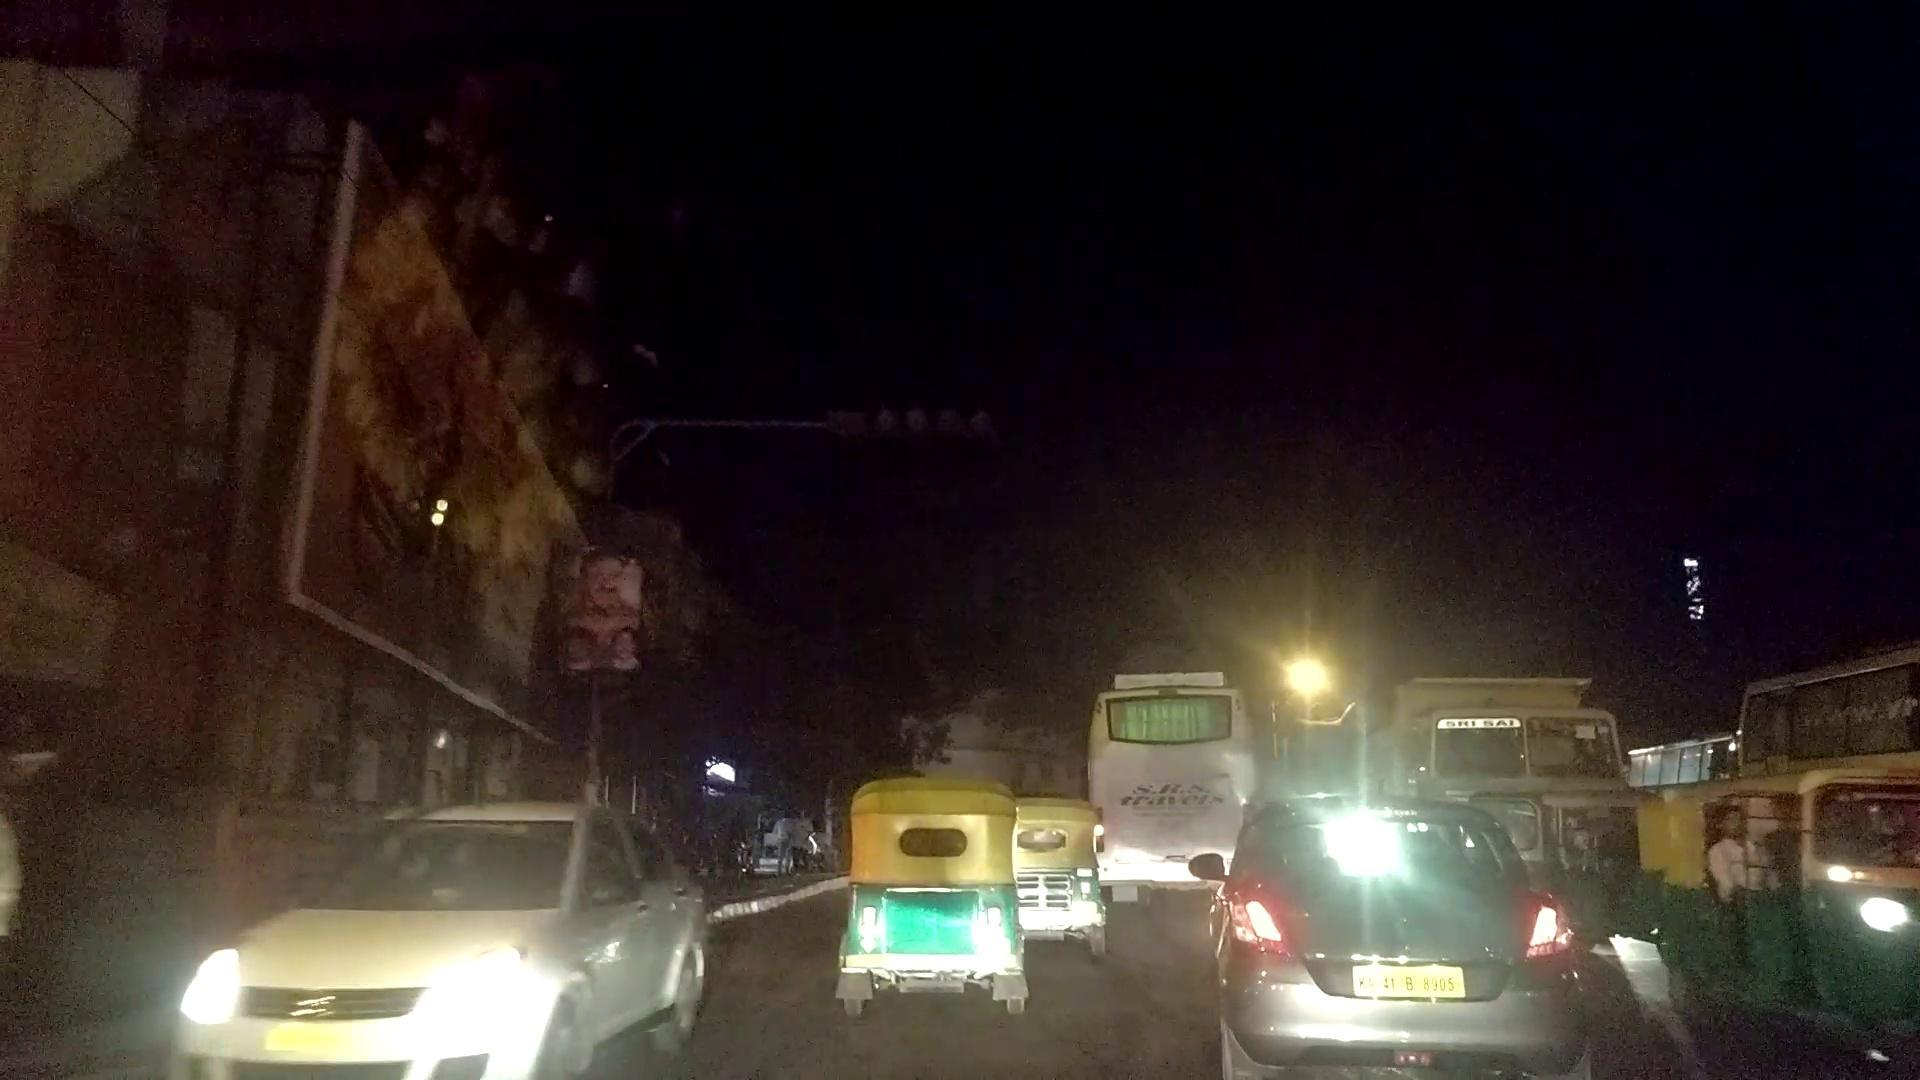on: (1139, 531, 1567, 1067)
